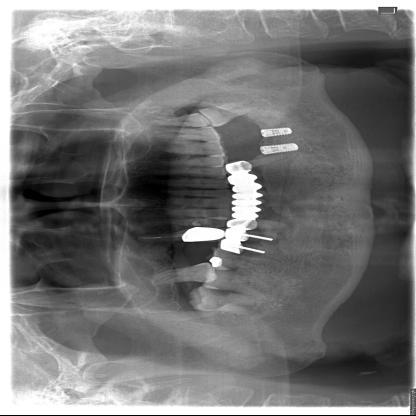ITI: (256, 143, 304, 157), (253, 127, 295, 139)
